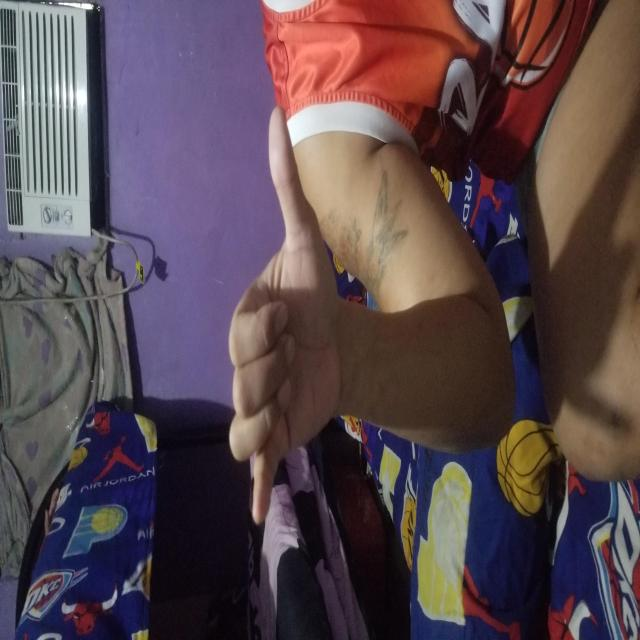Y: (114, 227, 532, 338)
